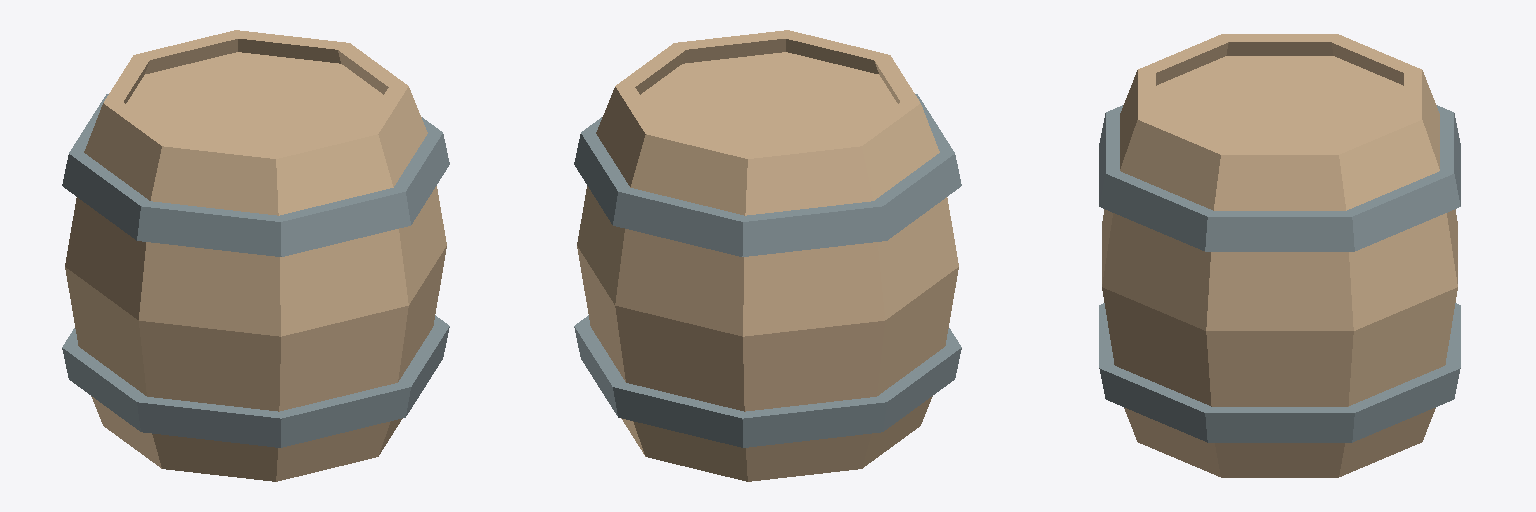
File: prop_floor_barrel.obj
3 views of the same model, side by side, from view 1: azimuth 30°, elevation 25°; view 2: azimuth 150°, elevation 25°; view 3: azimuth 270°, elevation 25° (orthographic).
Parts seen in each view (by area): view 1: prop_floor_barrel; view 2: prop_floor_barrel; view 3: prop_floor_barrel.
Boxes of the visible parts, box(x1,y1,x2,y2) form: prop_floor_barrel: box(62, 30, 449, 481); prop_floor_barrel: box(574, 30, 961, 481); prop_floor_barrel: box(1099, 34, 1460, 477).
Size of the model in its own units: 1.01 by 1 by 1.01.